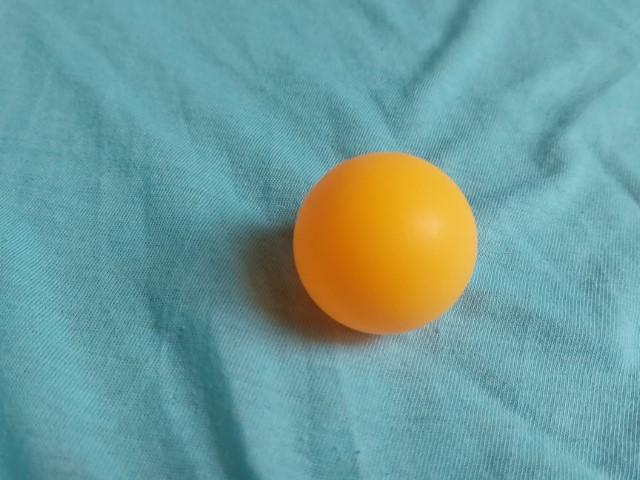oball: (285, 148, 483, 338)
